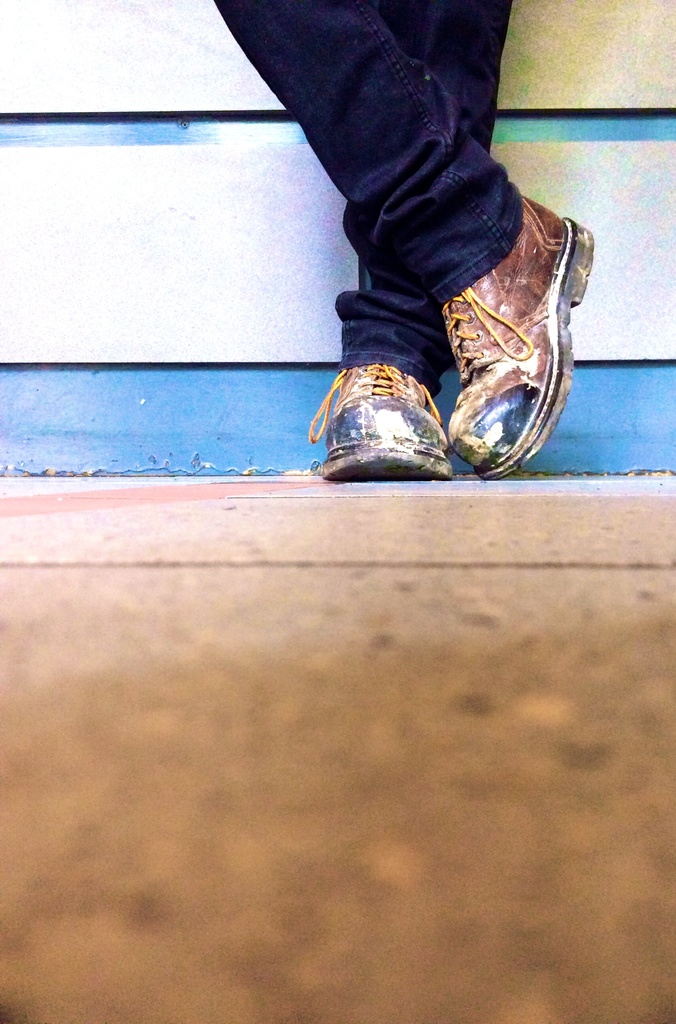Footwear: (430, 190, 603, 488), (307, 367, 461, 482)
